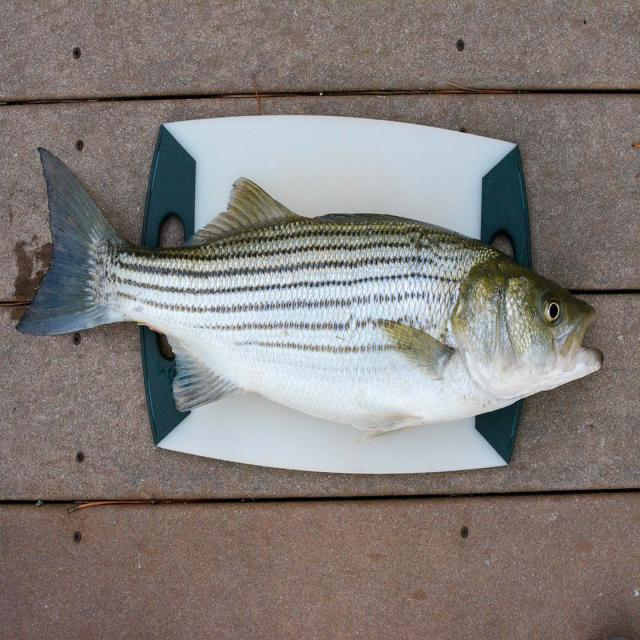Bass - Striped: (18, 150, 602, 440)
